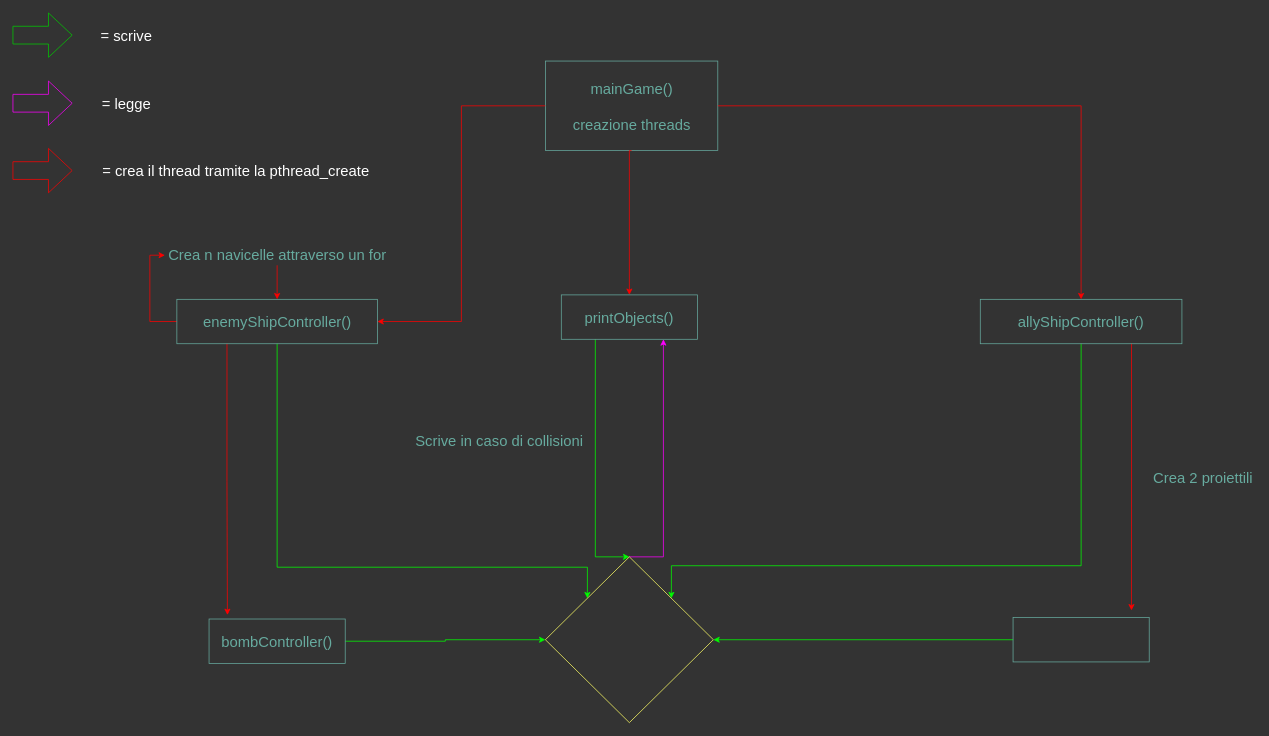
Some shapes in this 1269 by 736 pixel diagram are drawn without their labels. Each missing label, with the centre of its shape:
"bulletController()" goes at point 1080,639.
"variabili globali" goes at point 629,639.
